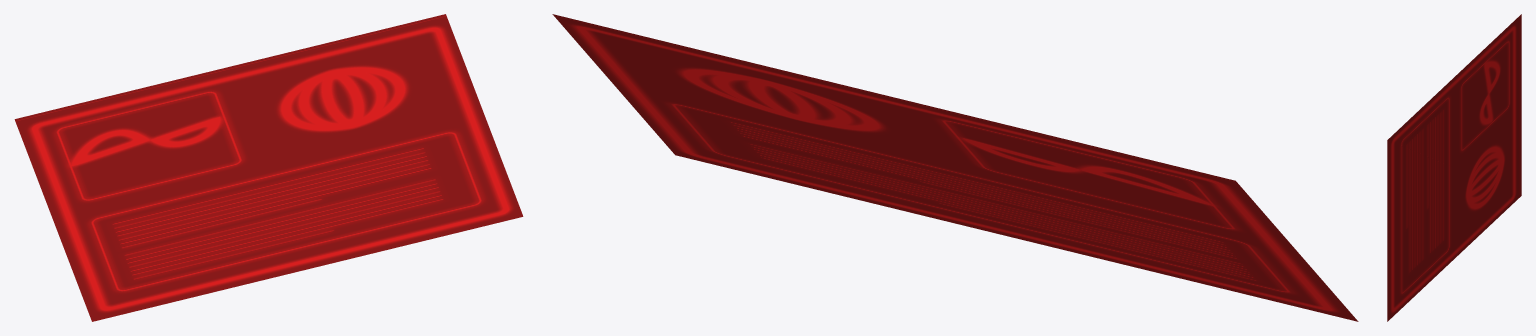
Rendered from Bed_Screen_01.fbx.
3 views of the same model, side by side, from view 1: azimuth 30°, elevation 25°; view 2: azimuth 150°, elevation 25°; view 3: azimuth 270°, elevation 25° (orthographic). The views are drawn at different scales.
Parts seen in each view (by area): view 1: Bed_Screen_01; view 2: Bed_Screen_01; view 3: Bed_Screen_01.
Part boxes in pixels (box(x1,y1,x2,y2)): Bed_Screen_01: box(14, 14, 523, 321); Bed_Screen_01: box(552, 14, 1358, 321); Bed_Screen_01: box(1387, 14, 1521, 321).
Size of the model in its own units: 223 by 72 by 69.41.
